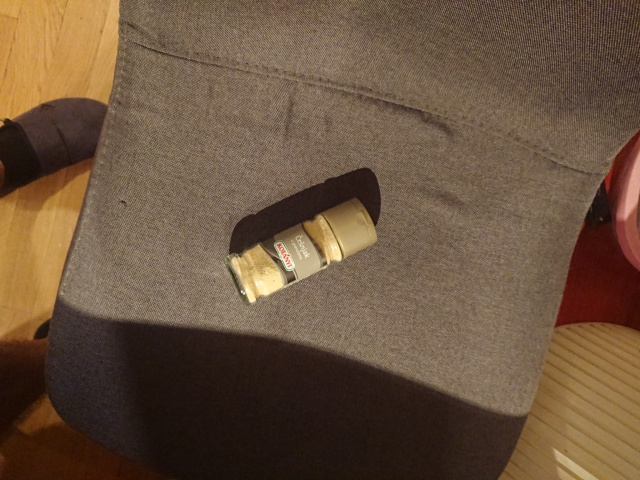Kotanyi Garlic Granules 70g: (220, 193, 381, 310)
